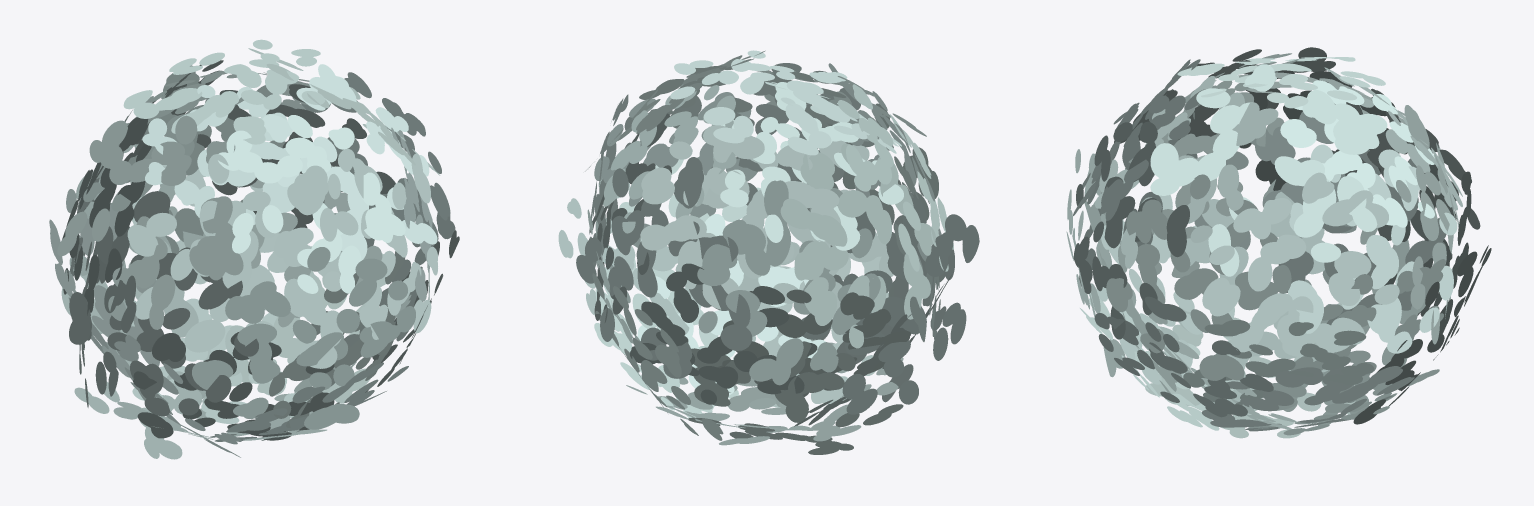
File: bush-original.glb
The picture shows the model from 3 angles, left to right: view 1: azimuth 30°, elevation 25°; view 2: azimuth 150°, elevation 25°; view 3: azimuth 270°, elevation 25°; orthographic projection. The views are drawn at different scales.
Parts seen in each view (by area): view 1: leaves; view 2: leaves; view 3: leaves.
Boxes of the visible parts, x1,y1,x2,y2 form: leaves: (49,39,459,459); leaves: (558,50,979,454); leaves: (1066,47,1491,438).
Bounding box in the file's own units: 3.14 × 3.05 × 3.07.
1 material, 1 textured.
